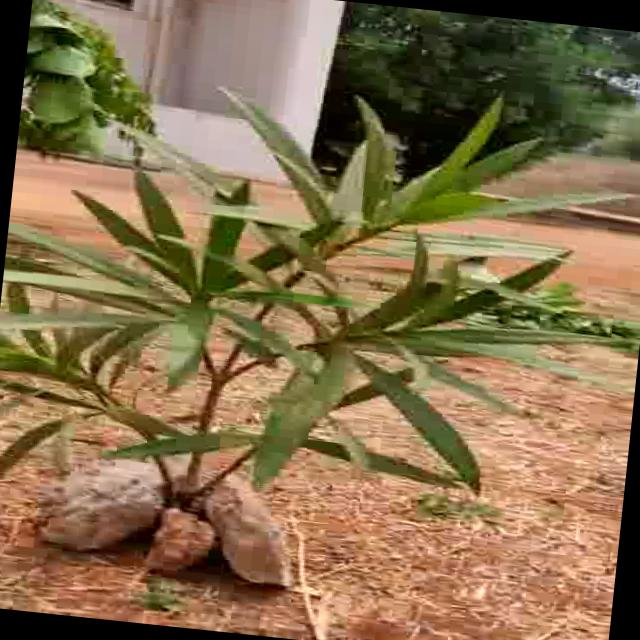Oleander: (0, 87, 617, 507)
